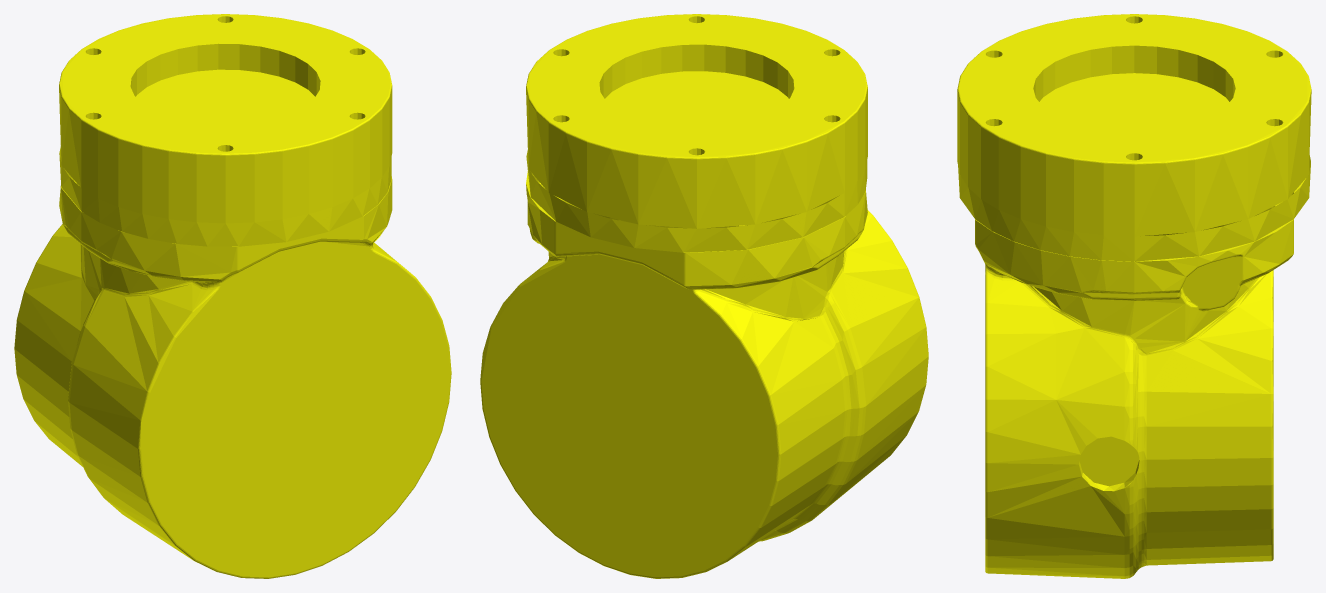
3 renders of one model, left to right at view 1: azimuth 30°, elevation 25°; view 2: azimuth 150°, elevation 25°; view 3: azimuth 270°, elevation 25°, orthographic. The views are drawn at different scales.
Parts seen in each view (by area): view 1: node; view 2: node; view 3: node.
Part boxes in pixels (x1,y1,x2,y2): node: (14, 14, 451, 578); node: (480, 14, 928, 578); node: (957, 14, 1311, 578).
Bounding box in the file's own units: 77.55 × 103 × 70.
